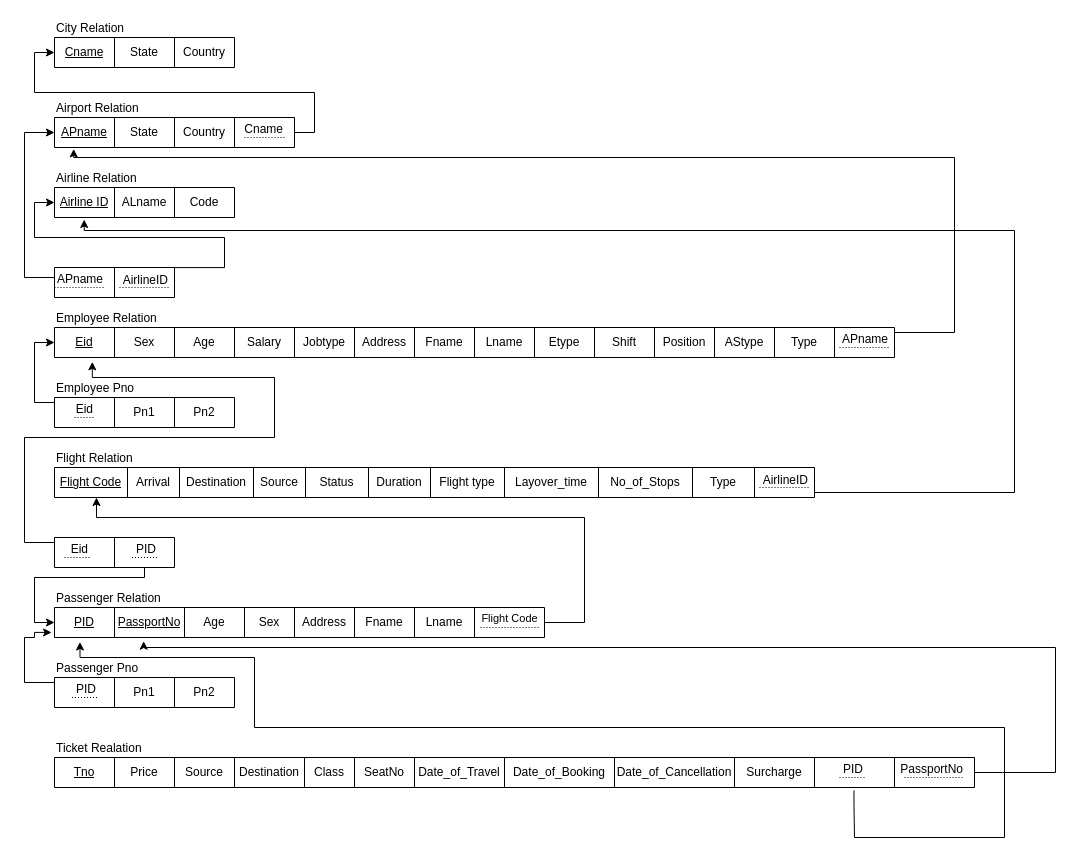
Some shapes in this 1081 by 863 pixel diagram are drawn without their labels. Here are the shapes that lost their labels. From the top down, the centre of each, then its label:
At (114,272): "Airport Airline".
At (114,542): "Employer Passenger".
